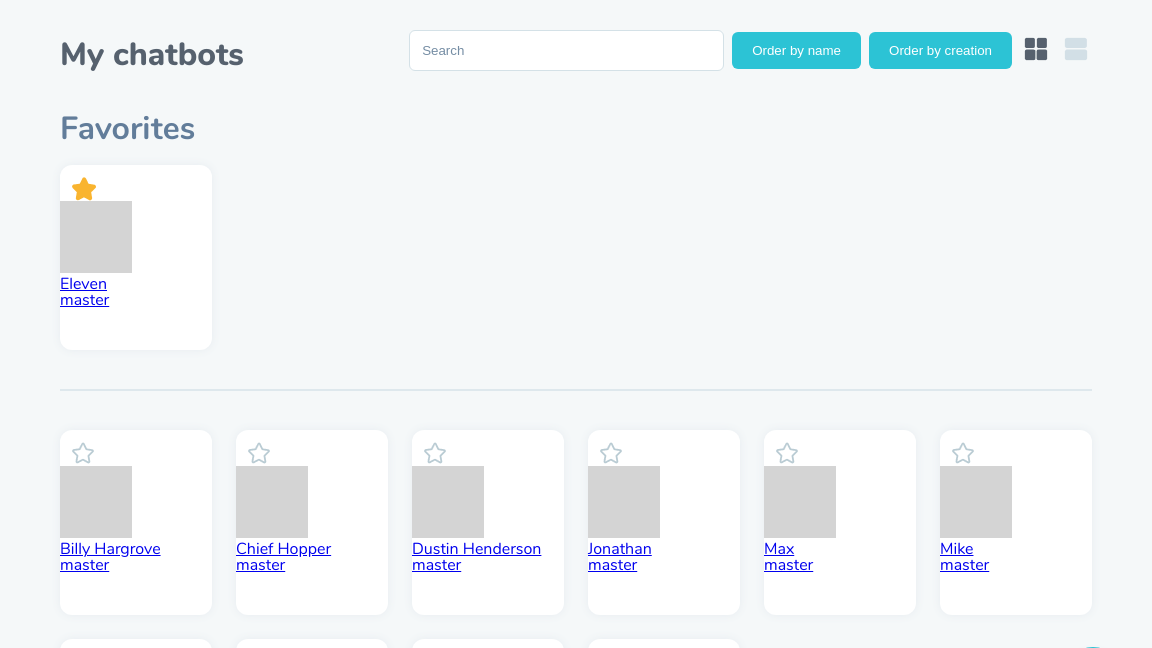
Test case: MyChatbots component › Should handle handleRemoveFavorite
The width and height of the screenshot is (1152, 648).
Expected: the element with test id "div-favorites" shows "Eleven", [60,257,212,308]
Click the button with test id "img-star" at (84, 190), box [72,177,96,203]
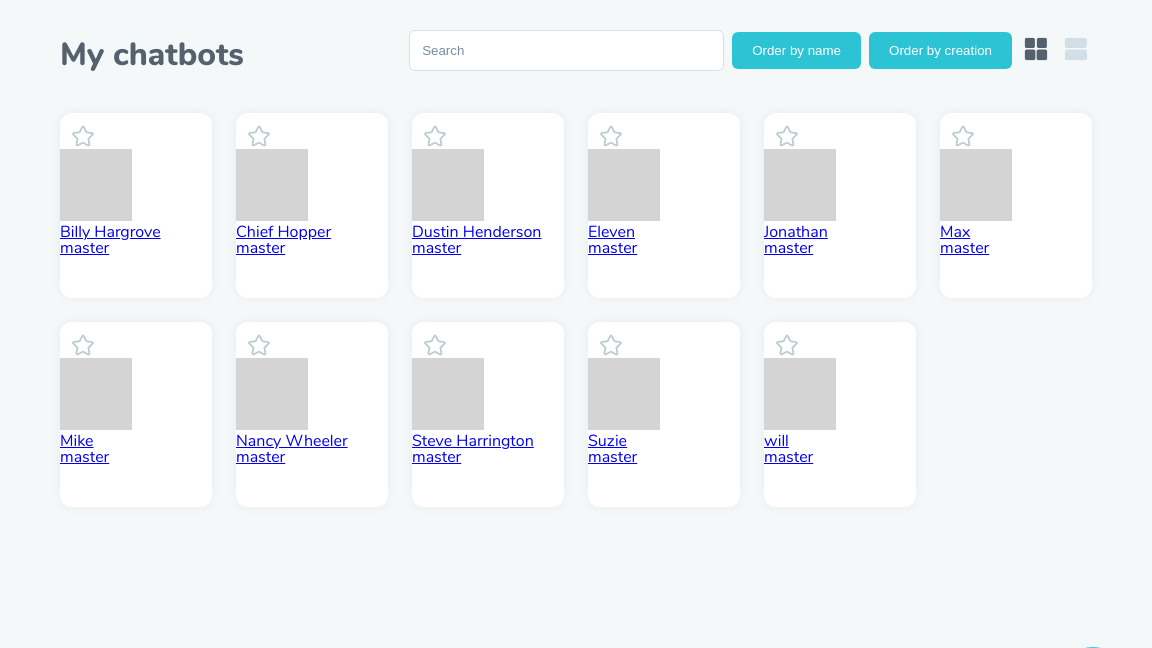
Expected: the element with test id "div-items" shows "Eleven", [588,205,740,256]
Expected: the element with test id "div-favorites" is gone
